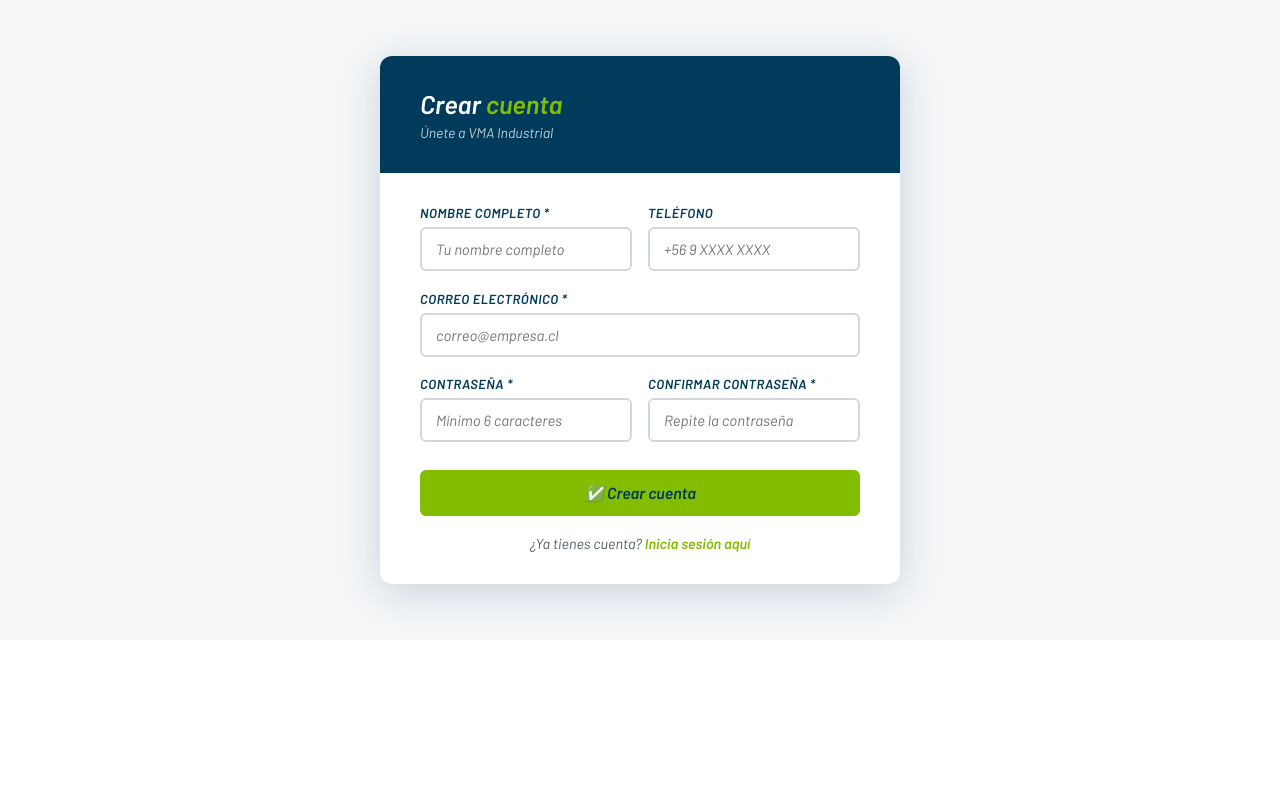
Página Registro — validaciones › muestra error si contraseña es muy corta
The width and height of the screenshot is (1280, 800).
Type "Juan" into the field labelled "Nombre completo *" at (526, 249), box top-left (420, 227), bottom-right (632, 271)
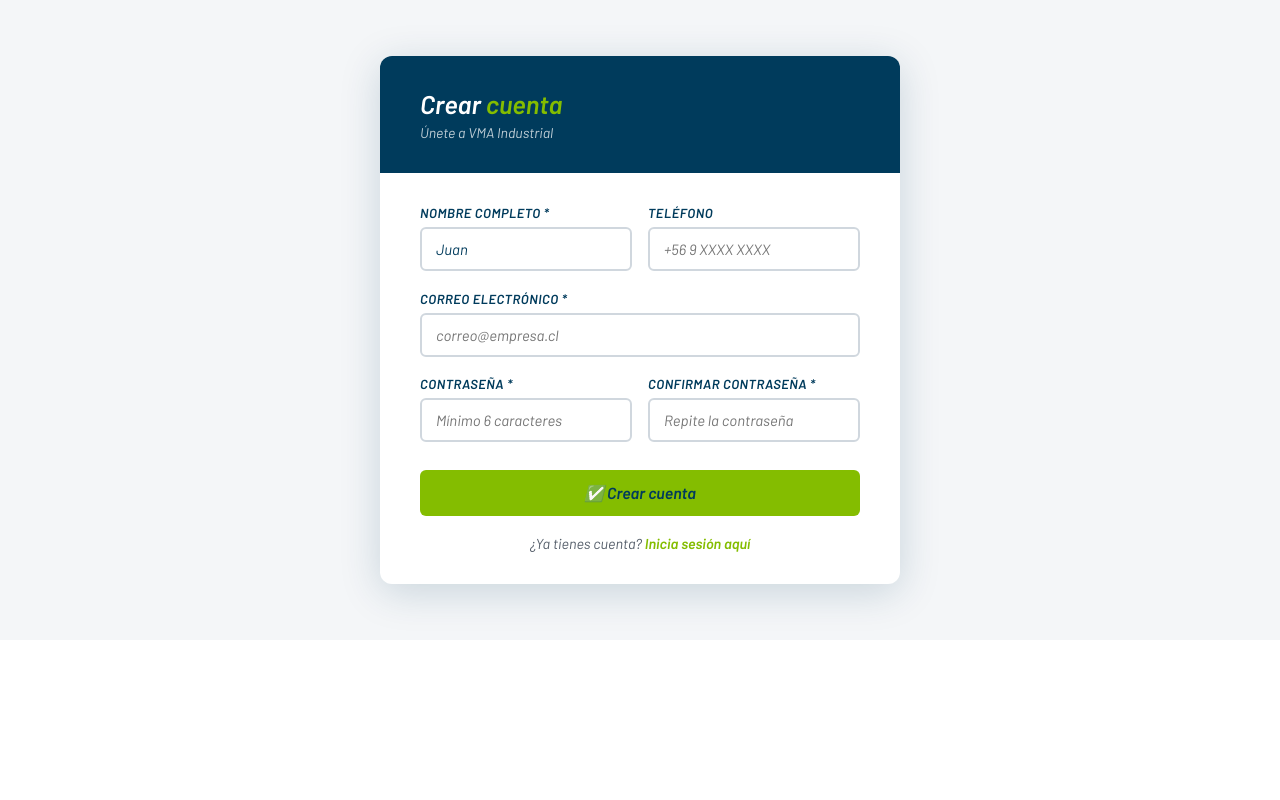
Type "juan@test.cl" into the field labelled "Correo electrónico *" at (640, 335), box top-left (420, 313), bottom-right (860, 357)
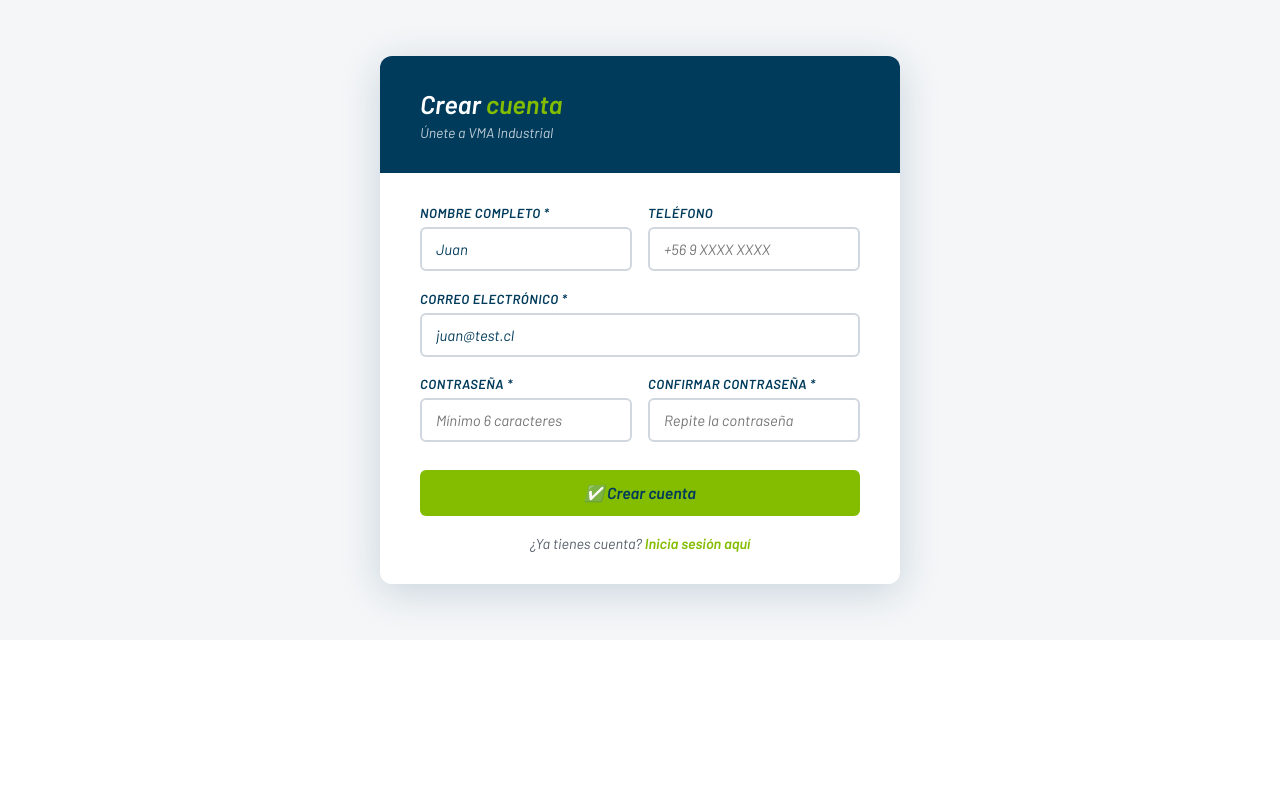
Type "123" into the password field labelled "Contraseña *" at (526, 420), box top-left (420, 398), bottom-right (632, 442)
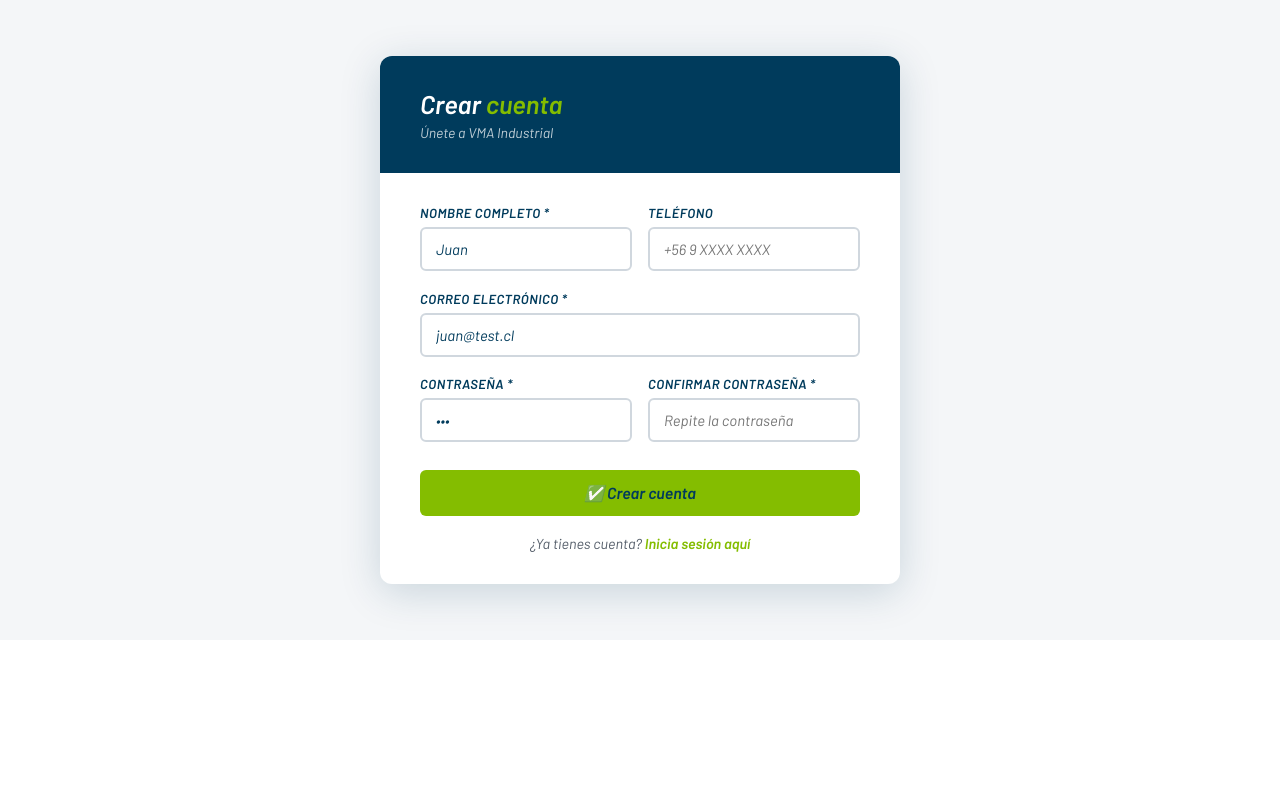
Click the button "✅ Crear cuenta" at (640, 493), box top-left (420, 470), bottom-right (860, 516)
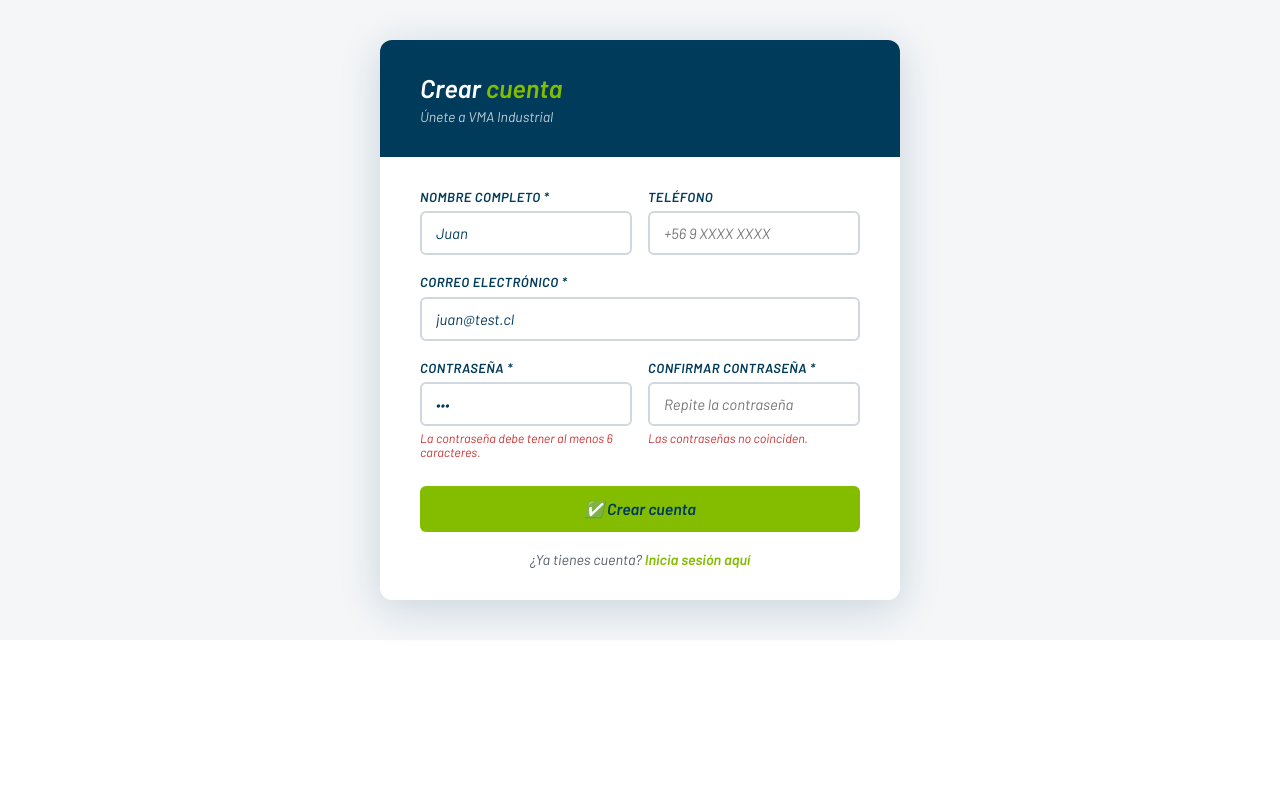
Result: the text "La contraseña debe tener al menos 6 caracteres." is shown at top-left (420, 431), bottom-right (632, 459)
